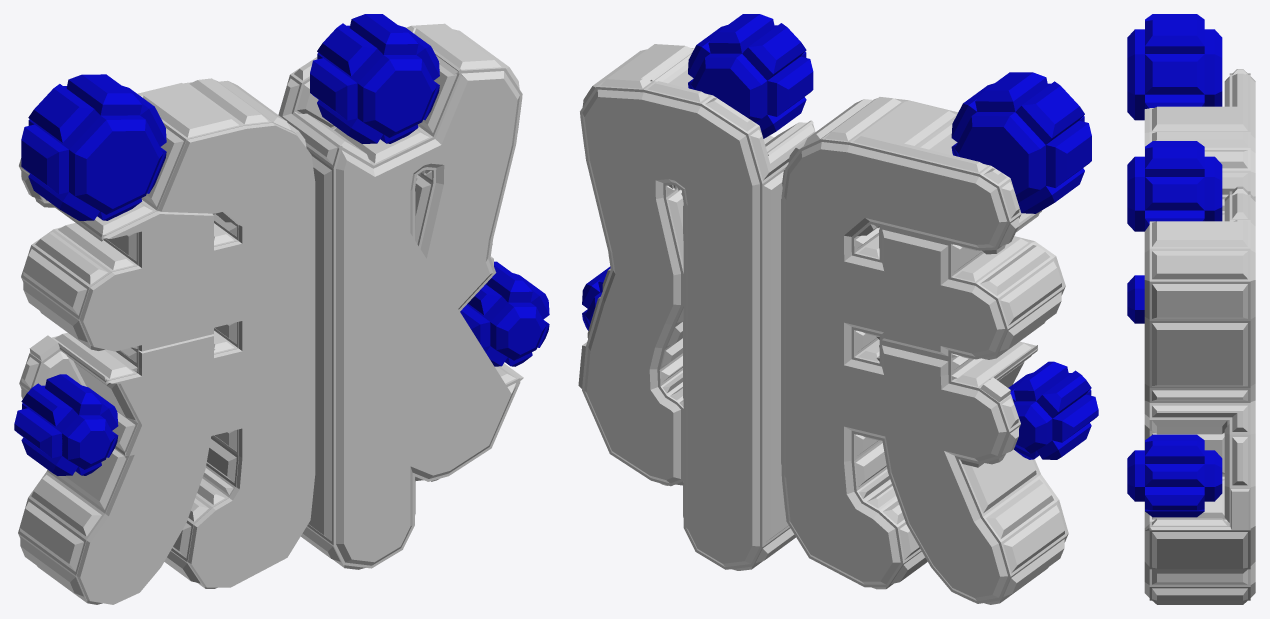
File: Ch_China_那_01.fbx
3 views of the same model, side by side, from view 1: azimuth 30°, elevation 25°; view 2: azimuth 150°, elevation 25°; view 3: azimuth 270°, elevation 25° (orthographic). The views are drawn at different scales.
Visible parts, largest first — view 1: sphere1; view 2: sphere1; view 3: sphere1.
Boxes of the visible parts, x1,y1,x2,y2 form: sphere1: (14,14,549,604); sphere1: (578,14,1098,604); sphere1: (1127,14,1255,604).
Size of the model in its own units: 1.01 by 1.02 by 0.2541.
